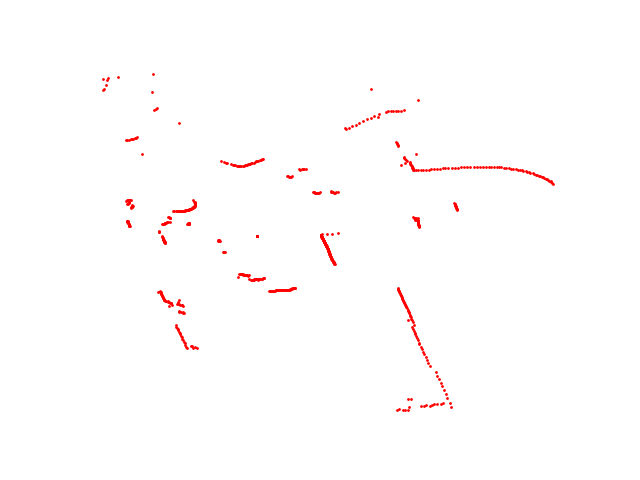person: (284, 166, 310, 180), (310, 188, 342, 198)
